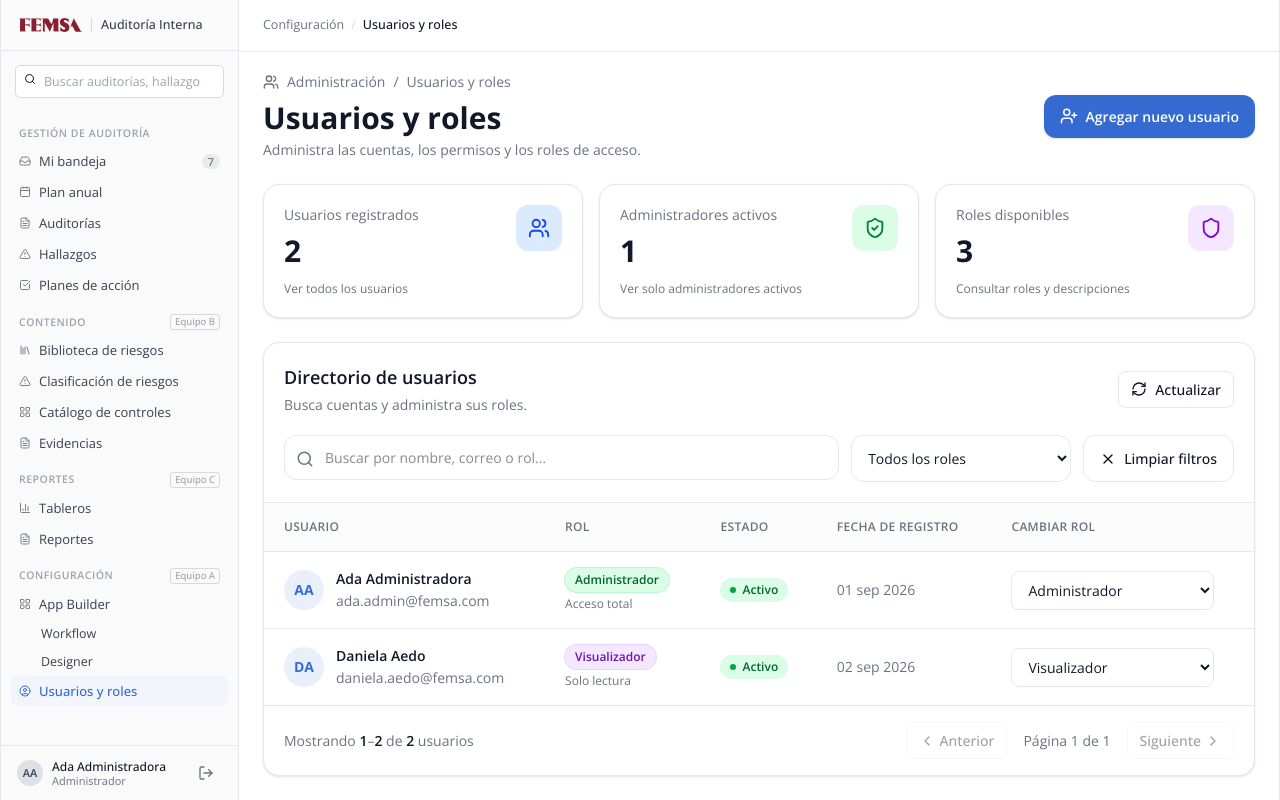
Test case: US02 Usuarios y roles › como administrador › US02.2 cambia el rol de un usuario
The width and height of the screenshot is (1280, 800).
Select "Creador de aplicaciones" in the dropdown named "Cambiar rol de Daniela Aedo" at (1114,668), box [1012,648,1215,687]
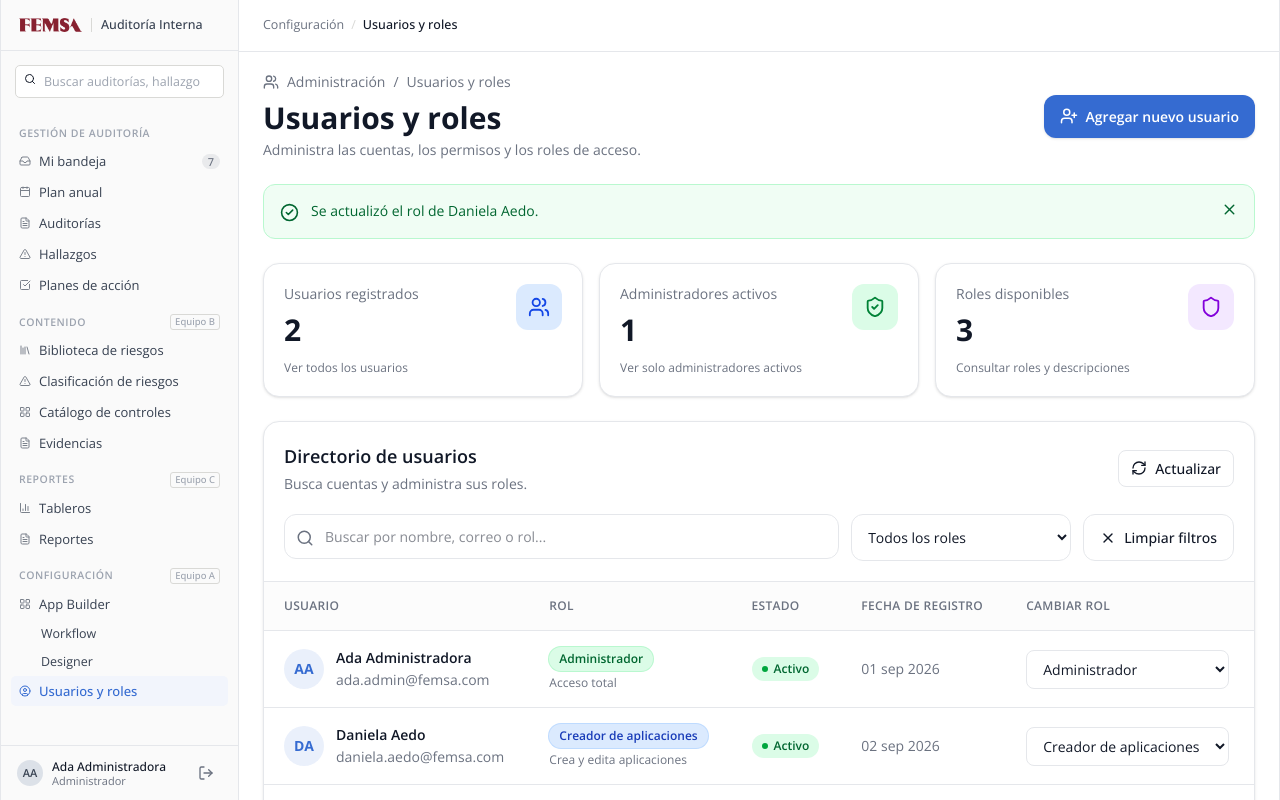
Check: the text "Se actualizó el rol de Daniela Aedo." is shown, box [311,201,538,220]
